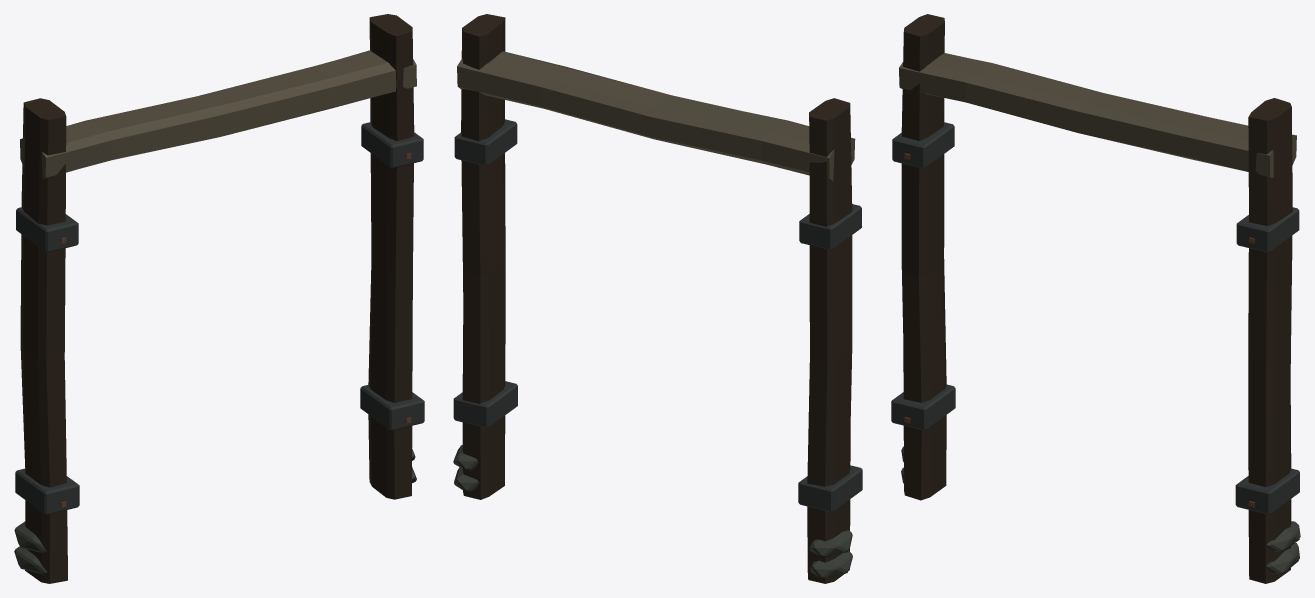
File: door-frame.glb
The picture shows the model from 3 angles, left to right: view 1: azimuth 30°, elevation 25°; view 2: azimuth 150°, elevation 25°; view 3: azimuth 330°, elevation 25°; orthographic projection.
Parts seen in each view (by area): view 1: Wood, Iron, Stone; view 2: Wood, Iron, Stone; view 3: Wood, Iron, Stone.
Boxes of the visible parts, x1,y1,x2,y2 form: Wood: (20,14,416,583); Iron: (15,122,424,514); Stone: (14,448,416,574); Wood: (457,14,855,583); Iron: (453,119,862,512); Stone: (453,445,852,579); Wood: (899,14,1296,583); Iron: (891,122,1299,514); Stone: (901,446,1300,574).
Bounding box in the file's own units: 2.1 × 2.39 × 0.3378.
